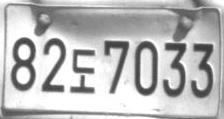0: (133, 39, 158, 96)
2: (40, 37, 66, 92)
3: (162, 41, 187, 98), (189, 43, 214, 98)
7: (103, 39, 130, 93)
8: (10, 36, 36, 92)
도: (69, 48, 96, 93)
